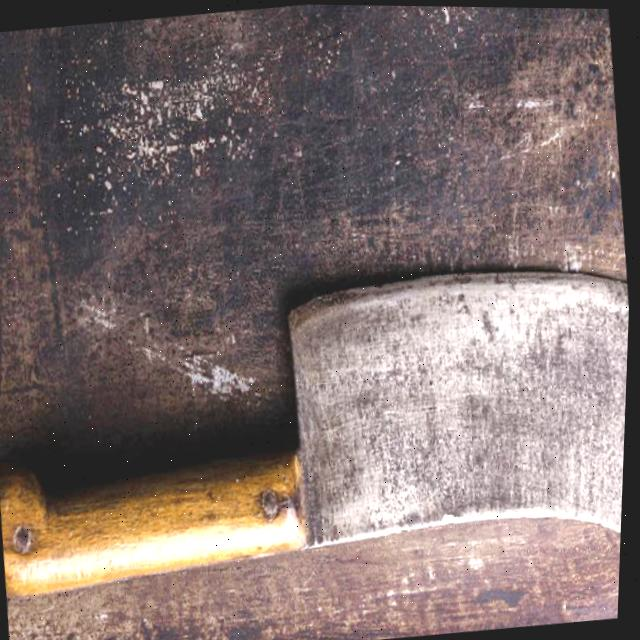long knife: (0, 211, 634, 632), (4, 265, 631, 597)
